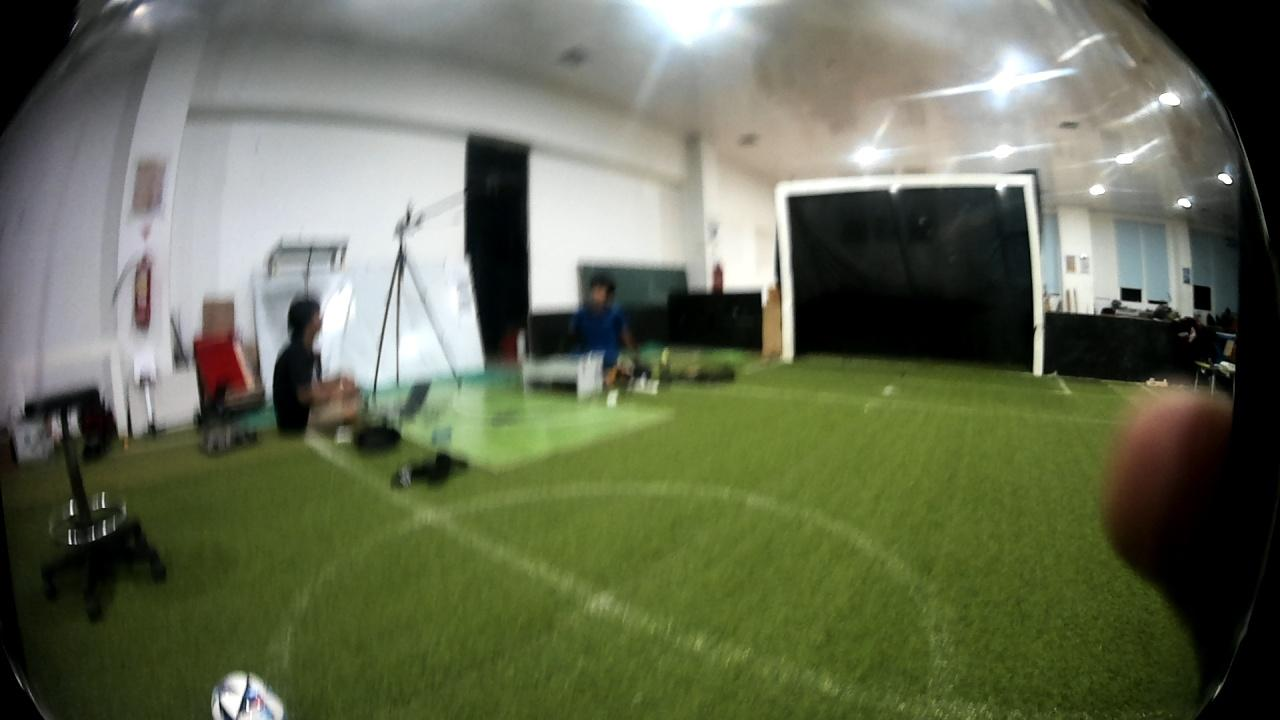ball: (207, 662, 297, 720)
